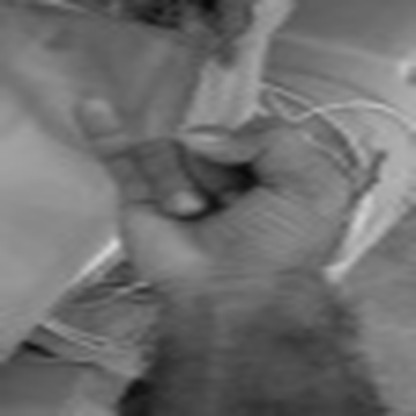i: (52, 84, 370, 295)
